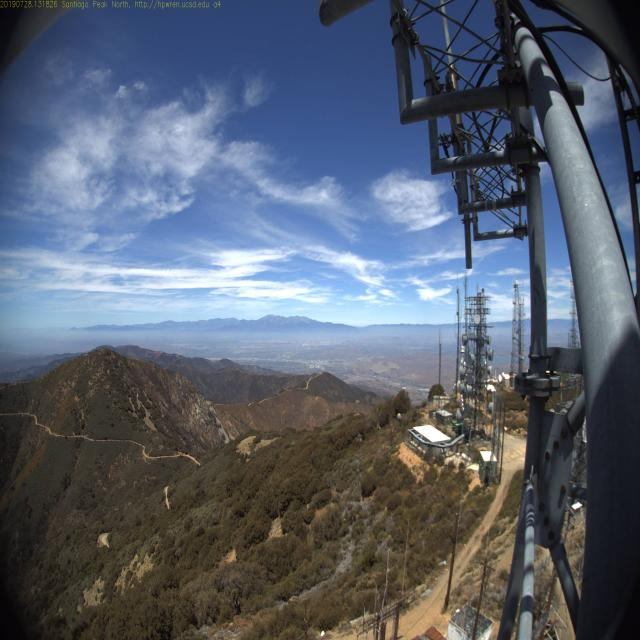smoke: (139, 330, 154, 349)
